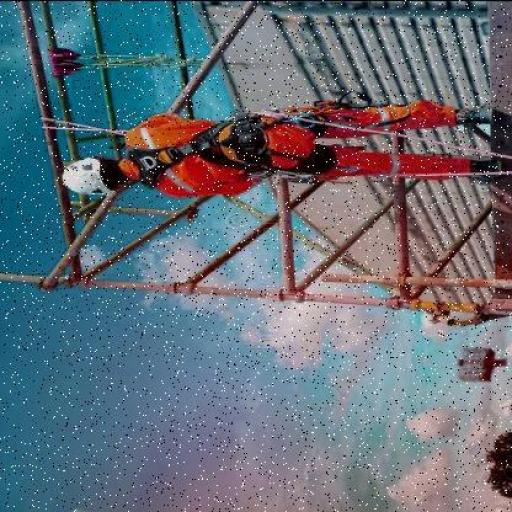person: (53, 94, 506, 222)
safety_shoe: (452, 100, 496, 130), (459, 157, 505, 184)
